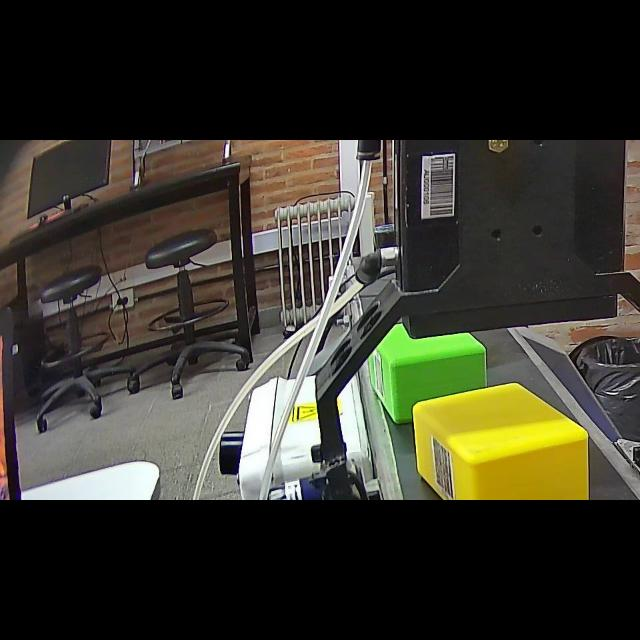greenBox: (363, 314, 491, 424)
yellowBox: (408, 378, 596, 499)
